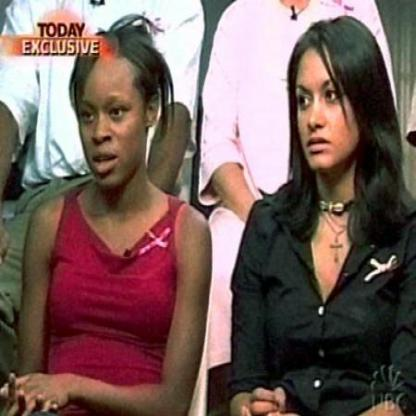face: (289, 26, 363, 174), (77, 45, 145, 189)
